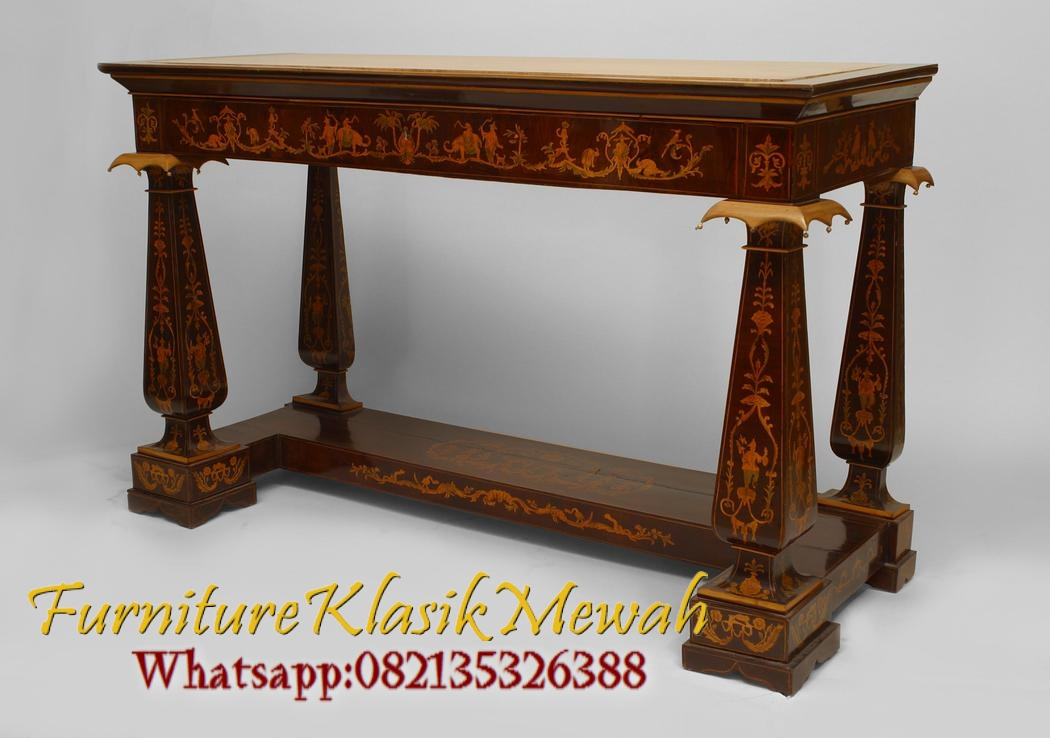Carving Table: (96, 49, 963, 682)
